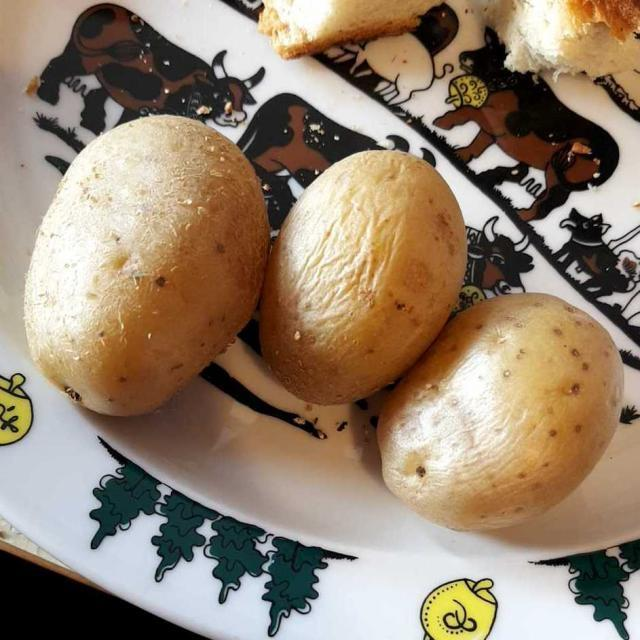potatoes: (7, 101, 615, 525)
